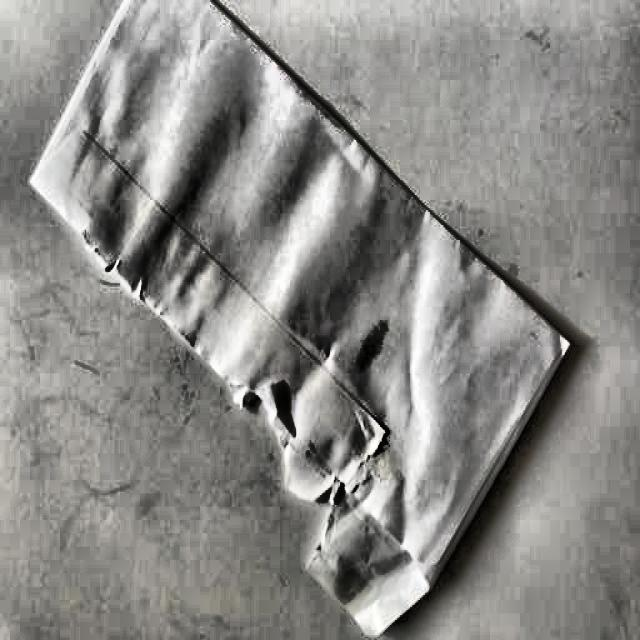paper: (35, 0, 573, 612)
